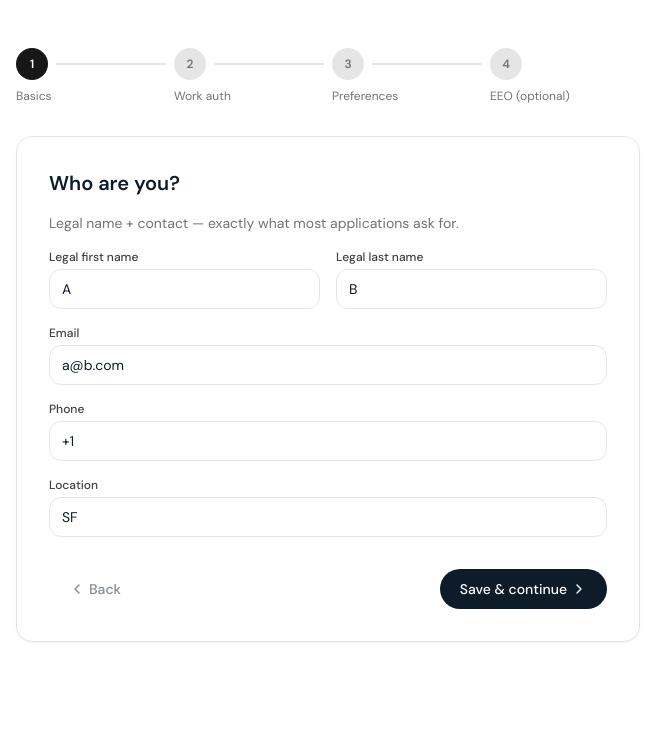
Test: ProfileWizard › shows EEO voluntary disclaimer on the final step
Check: the heading "Who are you?" is shown, box top-left (49, 170), bottom-right (180, 196)
Click the button "Save & continue" at (523, 589), box top-left (440, 569), bottom-right (607, 609)
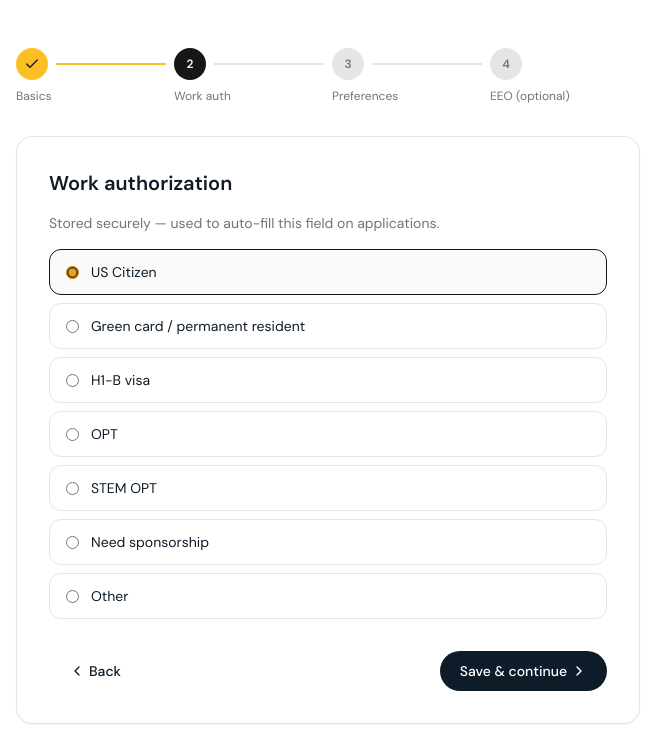
Click the button "Save & continue" at (523, 671), box top-left (440, 651), bottom-right (607, 691)
(page scrolled)
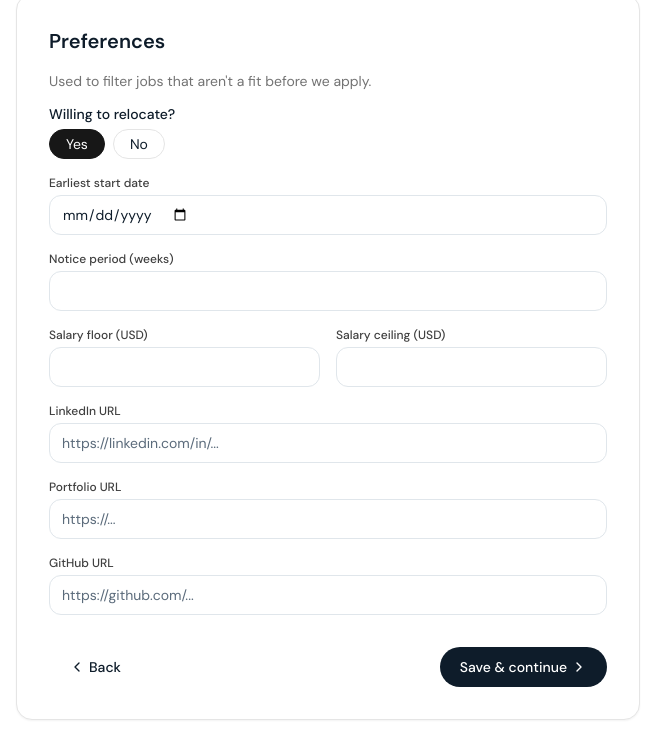
Click the button "Save & continue" at (523, 667), box top-left (440, 647), bottom-right (607, 687)
(page scrolled)
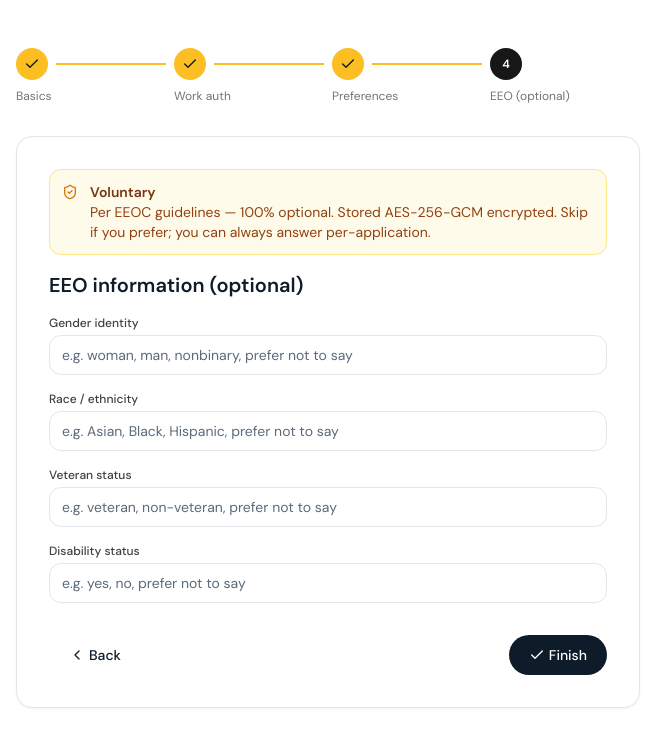
Check: the text "Voluntary" is shown, box top-left (90, 183), bottom-right (156, 201)
Check: the text "AES-256-GCM encrypted" is shown, box top-left (90, 203), bottom-right (588, 241)
